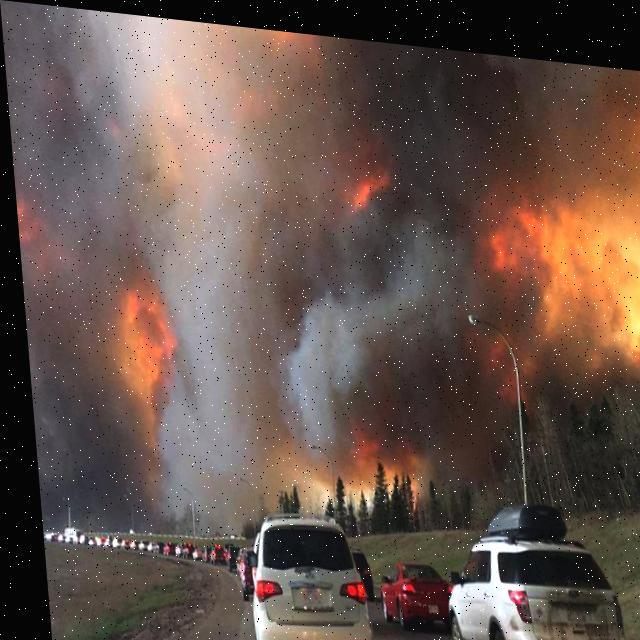Fire: (487, 158, 639, 387), (89, 253, 183, 522), (264, 430, 424, 527)
